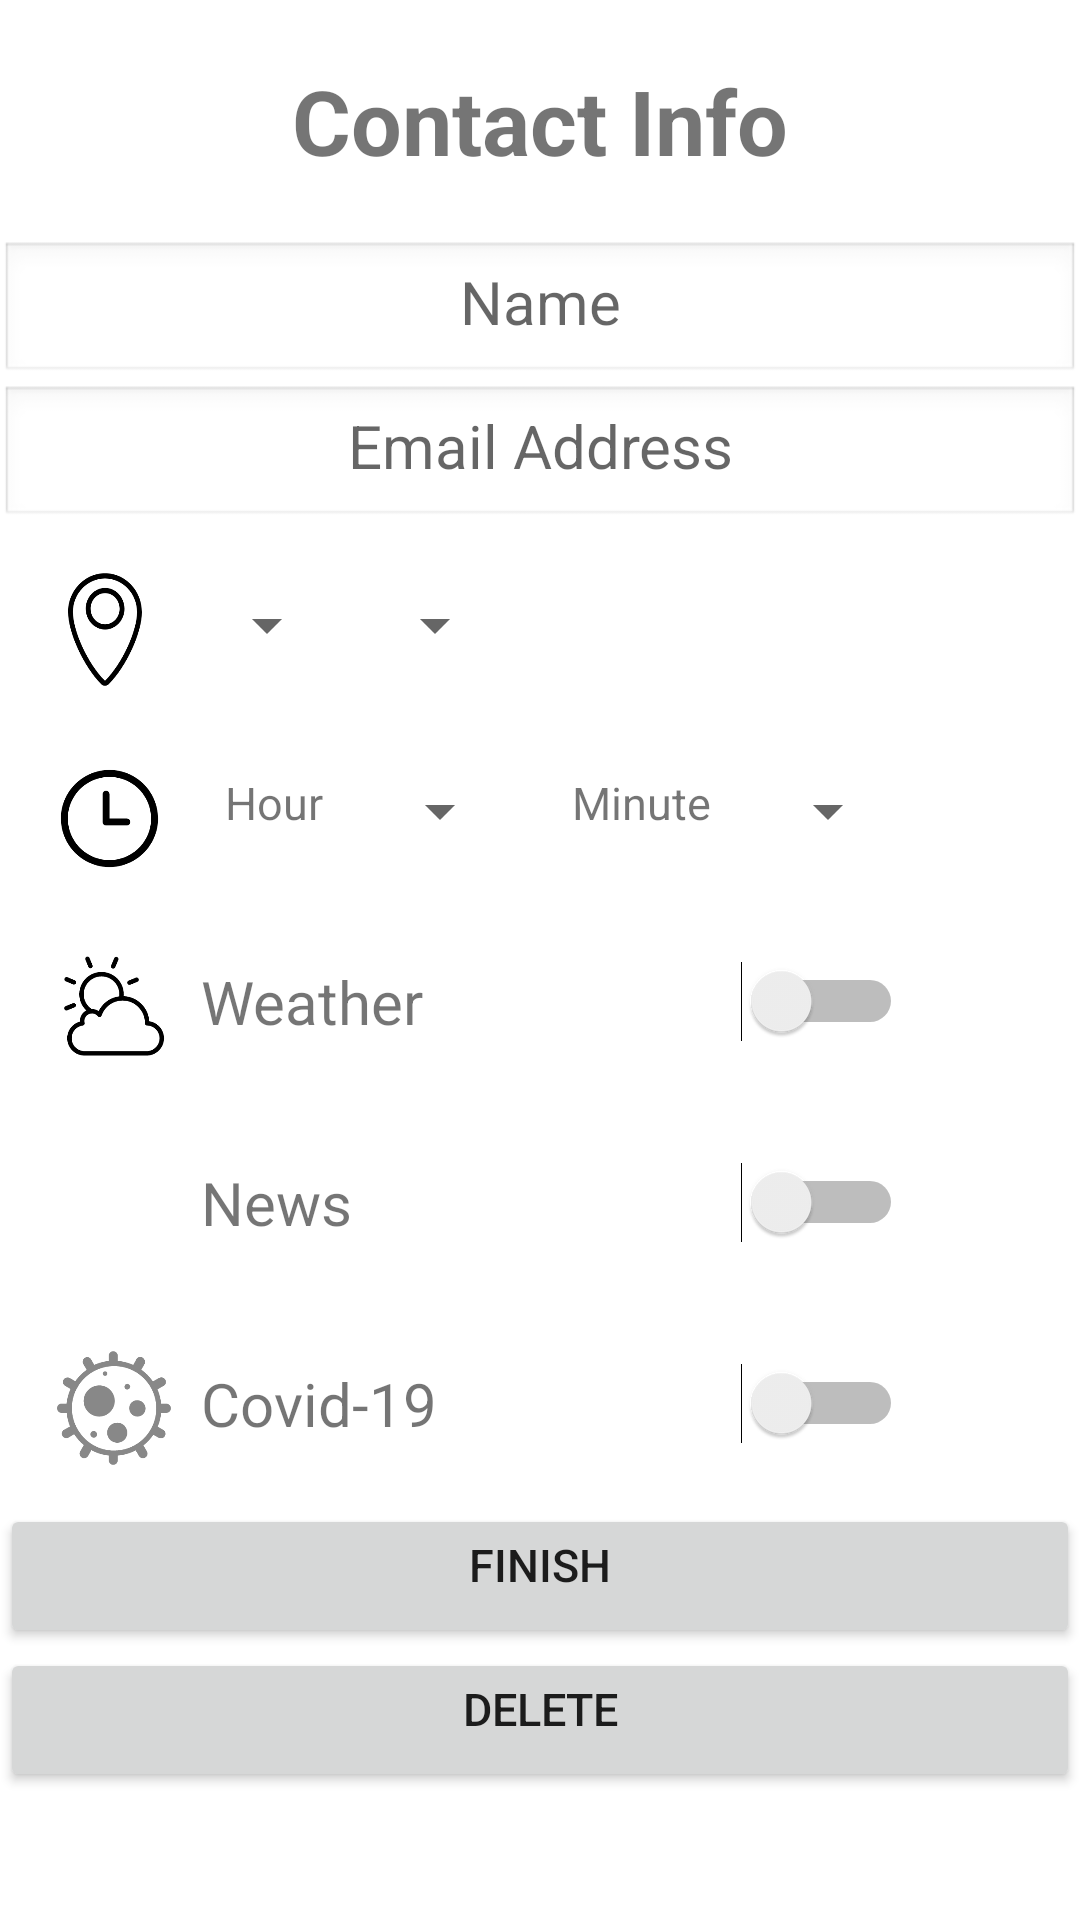

Icon bounding boxes for this 1080w x 1920h phone screenshot, format (x1, y1, x2, y2):
clock: (61, 770, 158, 867)
